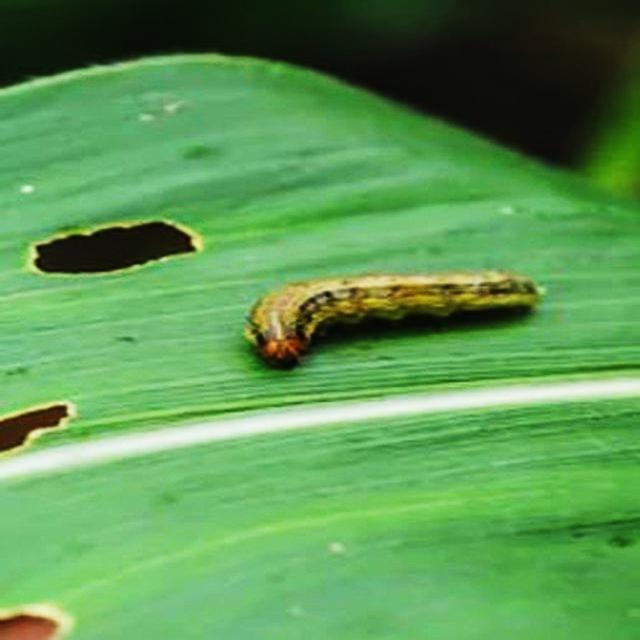gusano_cogollero: (239, 265, 546, 369)
